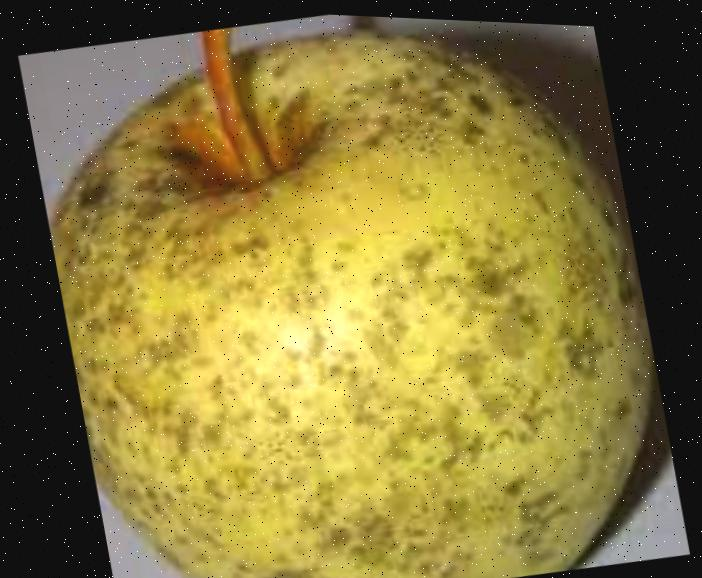BLOTCH: (16, 1, 686, 578)
